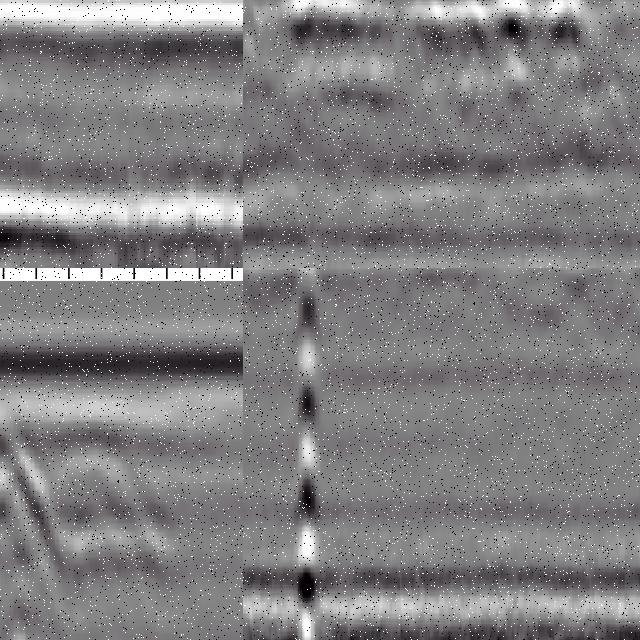crack: (292, 269, 319, 640), (1, 390, 34, 640)
loose: (264, 1, 605, 90), (40, 421, 174, 621)
